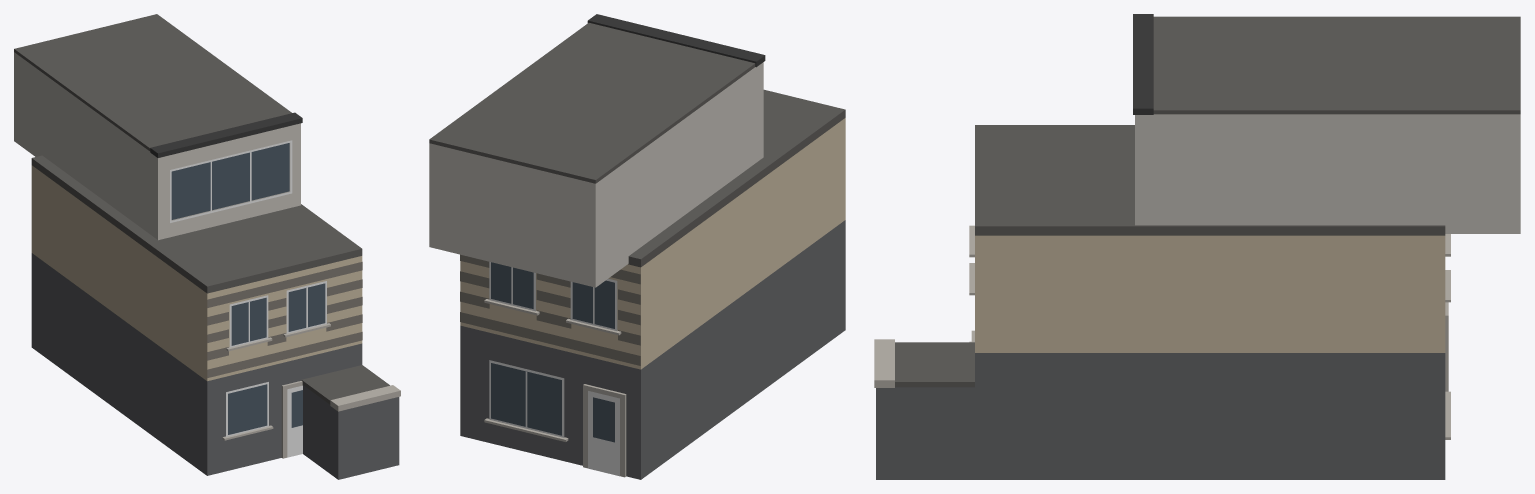
Rendered from nd-tw-flat-top__striped-box__2__flat__long__solid__mirror.glb.
3 views of the same model, side by side, from view 1: azimuth 30°, elevation 25°; view 2: azimuth 150°, elevation 25°; view 3: azimuth 270°, elevation 25° (orthographic). The views are drawn at different scales.
Visible parts, largest first — view 1: nd-tw-flat-top__striped-box__2__flat__long__solid__mirror; view 2: nd-tw-flat-top__striped-box__2__flat__long__solid__mirror; view 3: nd-tw-flat-top__striped-box__2__flat__long__solid__mirror.
Boxes of the visible parts, box(x1,y1,x2,y2) form: nd-tw-flat-top__striped-box__2__flat__long__solid__mirror: box(14, 14, 400, 479); nd-tw-flat-top__striped-box__2__flat__long__solid__mirror: box(429, 14, 845, 479); nd-tw-flat-top__striped-box__2__flat__long__solid__mirror: box(874, 14, 1520, 479).
Bounding box in the file's own units: 5.13 × 8.7 × 13.74.
